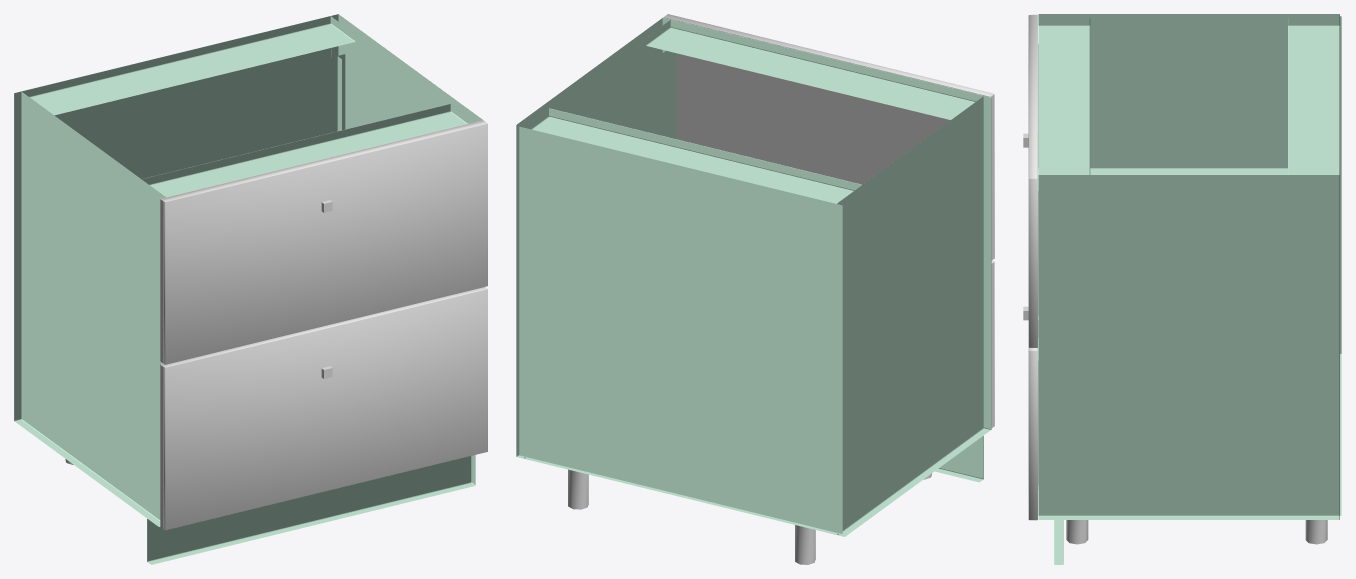
Rendered from M_2YNSD_10.glb.
The picture shows the model from 3 angles, left to right: view 1: azimuth 30°, elevation 25°; view 2: azimuth 150°, elevation 25°; view 3: azimuth 270°, elevation 25°; orthographic projection. The views are drawn at different scales.
Parts seen in each view (by area): view 1: M_2YNSD_10, M_2YNSD_1_F.016, M_2YNSD_1_F.017, M_2YNSD_10_F_10, M_2YNSD_1_F_C.016, M_2YNSD_1_F_C.017; view 2: M_2YNSD_10, M_2YNSD_1_F_A.016, M_2YNSD_1_F_B.016, M_2YNSD_10_F_10, M_2YNSD_1_F.016, Legs.010, M_2YNSD_1_F_C.016, M_2YNSD_1_F_C.017; view 3: M_2YNSD_10, M_2YNSD_10_F_10, M_2YNSD_1_F.016, M_2YNSD_1_F.017, Legs.010.
Part boxes in pixels (x1=…): M_2YNSD_10: x1=14, y1=14, x2=482, y2=564; M_2YNSD_1_F.016: x1=161, y1=120, x2=487, y2=364; M_2YNSD_1_F.017: x1=161, y1=287, x2=487, y2=530; M_2YNSD_10_F_10: x1=64, y1=54, x2=421, y2=179; M_2YNSD_1_F_C.016: x1=160, y1=199, x2=163, y2=363; M_2YNSD_1_F_C.017: x1=160, y1=365, x2=163, y2=528; M_2YNSD_10: x1=516, y1=17, x2=991, y2=536; M_2YNSD_1_F_A.016: x1=664, y1=17, x2=992, y2=176; M_2YNSD_1_F_B.016: x1=828, y1=58, x2=993, y2=259; M_2YNSD_10_F_10: x1=578, y1=50, x2=676, y2=139; M_2YNSD_1_F.016: x1=664, y1=14, x2=994, y2=258; Legs.010: x1=568, y1=469, x2=931, y2=564; M_2YNSD_1_F_C.016: x1=676, y1=61, x2=994, y2=259; M_2YNSD_1_F_C.017: x1=991, y1=263, x2=994, y2=427; M_2YNSD_10: x1=1038, y1=14, x2=1341, y2=564; M_2YNSD_10_F_10: x1=1038, y1=43, x2=1287, y2=489; M_2YNSD_1_F.016: x1=1028, y1=15, x2=1037, y2=347; M_2YNSD_1_F.017: x1=1028, y1=348, x2=1037, y2=520; Legs.010: x1=1066, y1=520, x2=1327, y2=544.
Size of the model in its own units: 7.86 by 8.6 by 6.41.
